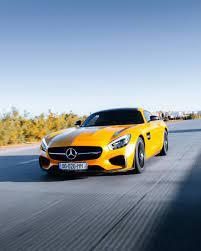car: (33, 102, 171, 178)
